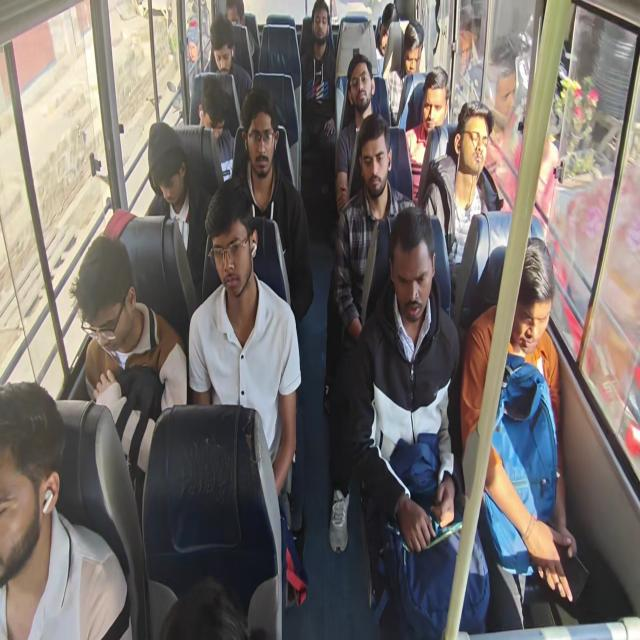person: (0, 377, 72, 553), (53, 230, 147, 359), (204, 205, 263, 291), (393, 218, 444, 313), (513, 250, 554, 351), (245, 100, 281, 190), (149, 130, 183, 216), (459, 108, 500, 174), (358, 122, 390, 197), (186, 70, 217, 128), (347, 56, 376, 110), (422, 74, 446, 136), (224, 1, 255, 42), (212, 36, 235, 82), (308, 3, 332, 46), (404, 36, 425, 79), (378, 18, 395, 59)
